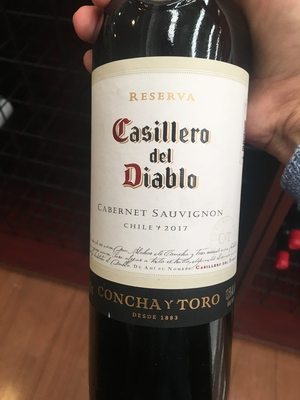casillero del diablo cabernet sauvignon: (73, 29, 250, 400)
